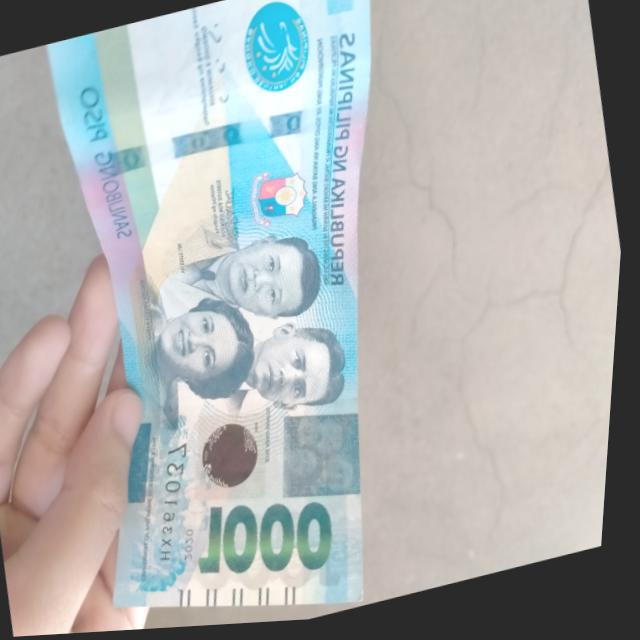concealed_value: (273, 400, 386, 516)
optically_variable_device: (181, 398, 292, 524)
security_thread: (72, 84, 378, 196)
